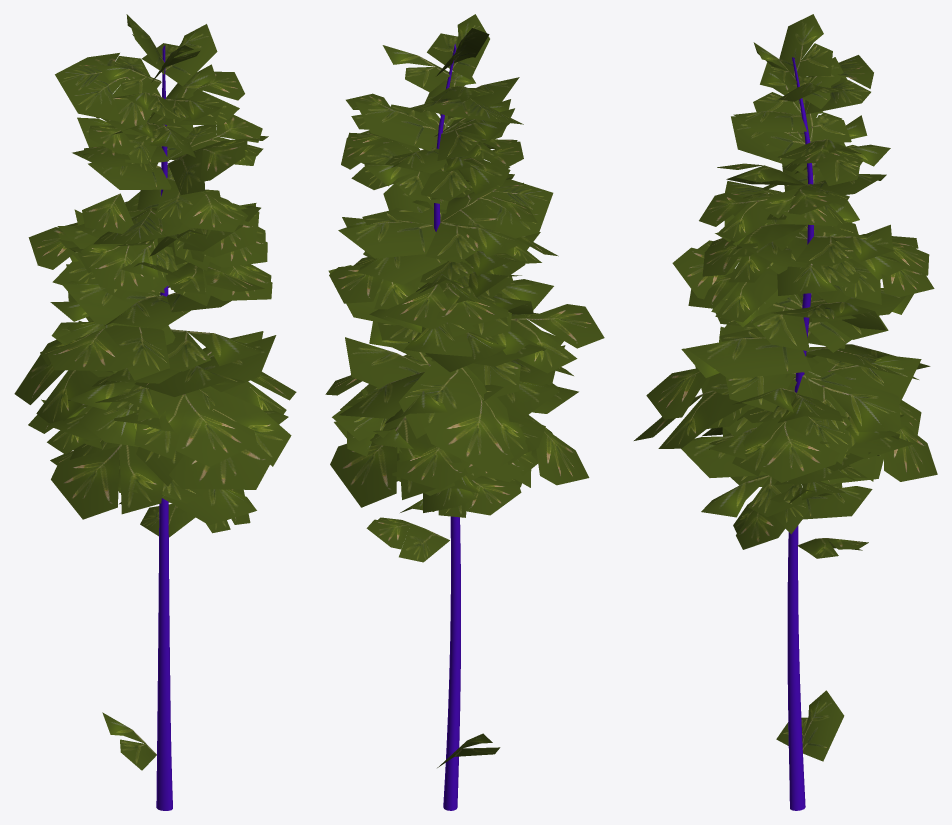
Rendered from Bamboo_A.FBX.
3 views of the same model, side by side, from view 1: azimuth 30°, elevation 25°; view 2: azimuth 150°, elevation 25°; view 3: azimuth 270°, elevation 25° (orthographic). The views are drawn at different scales.
Parts seen in each view (by area): view 1: Geometry_Bamboo_A_LOD00; view 2: Geometry_Bamboo_A_LOD00; view 3: Geometry_Bamboo_A_LOD00.
Boxes of the visible parts, x1,y1,x2,y2 form: Geometry_Bamboo_A_LOD00: (14, 14, 296, 810); Geometry_Bamboo_A_LOD00: (325, 14, 604, 810); Geometry_Bamboo_A_LOD00: (634, 14, 937, 810).
Size of what is drawn, in the model's own units: 170 by 506 by 179.
